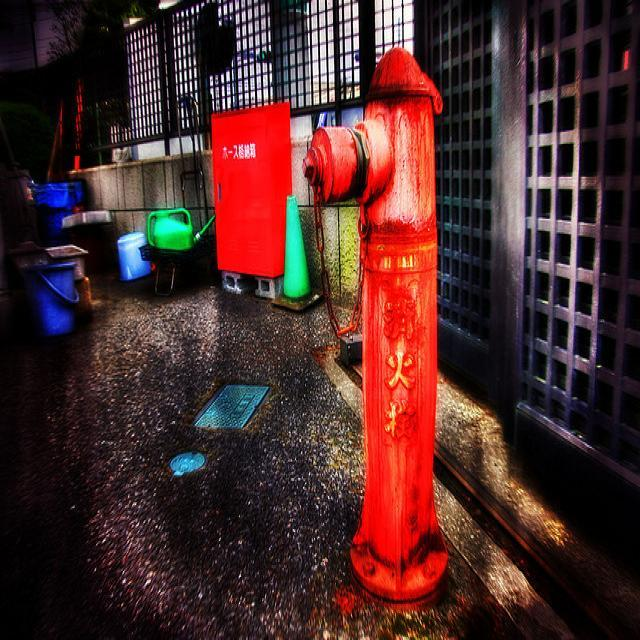fire_hydrant: (306, 36, 450, 613)
